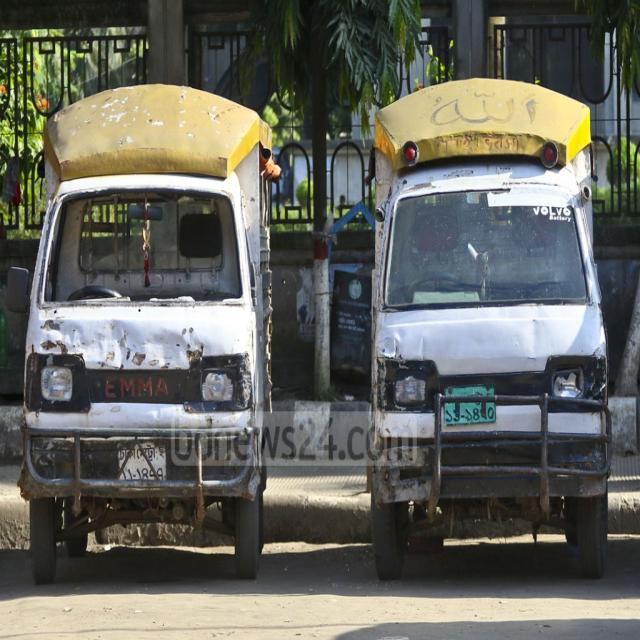Leguna: (18, 80, 286, 600), (359, 75, 614, 579)
